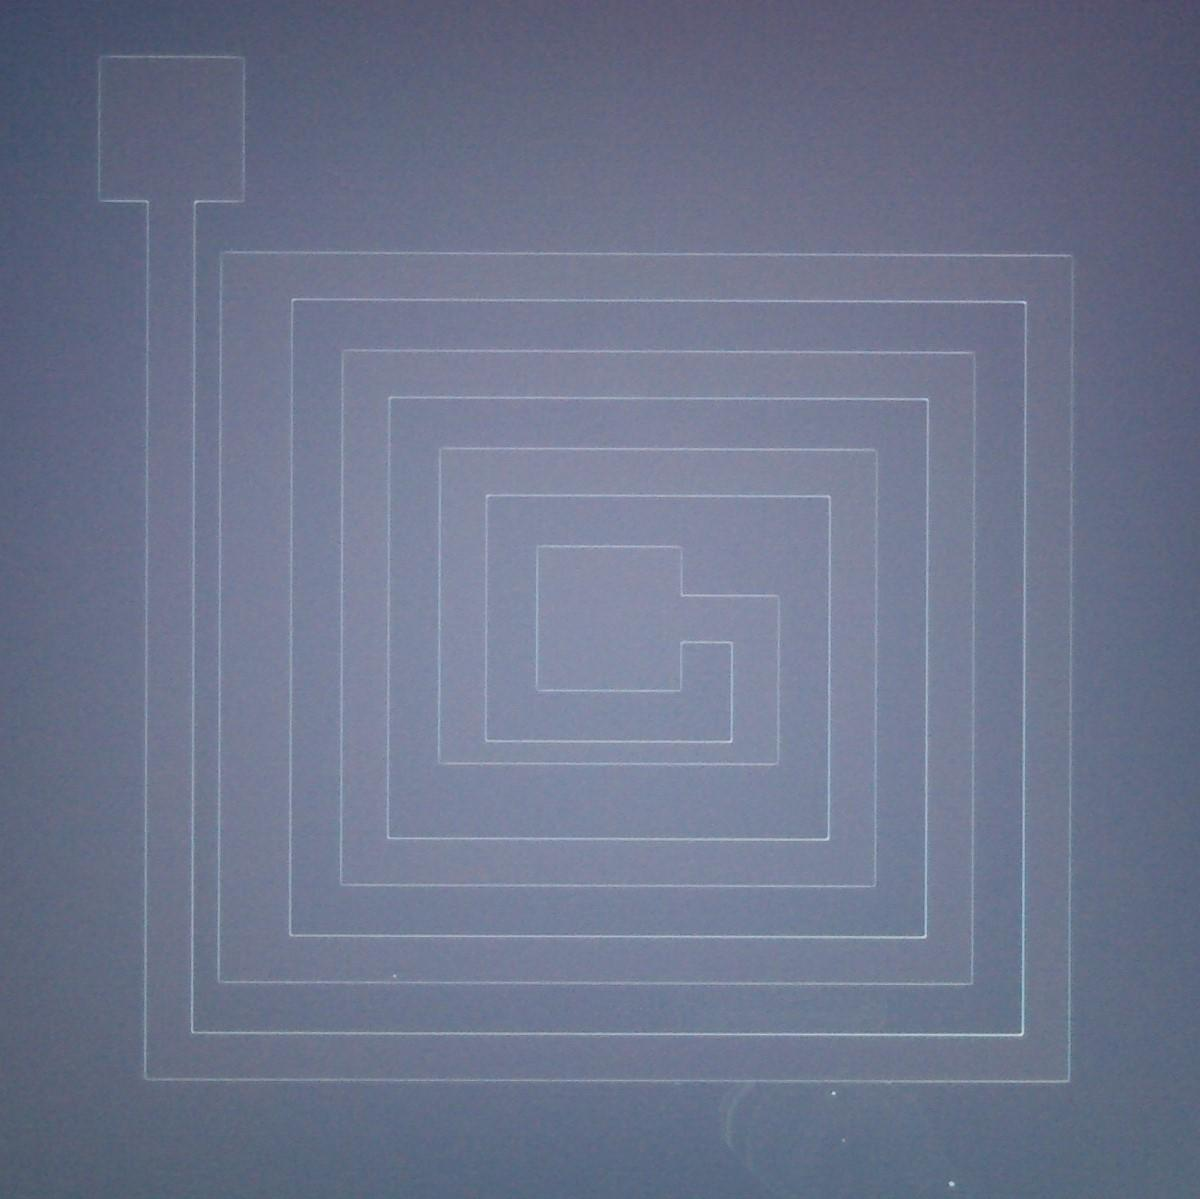B_point: (942, 1175, 962, 1192)
s_point: (386, 967, 403, 985), (826, 1085, 842, 1102), (835, 1132, 852, 1148)
width: (119, 227, 411, 1007), (424, 620, 814, 909)
